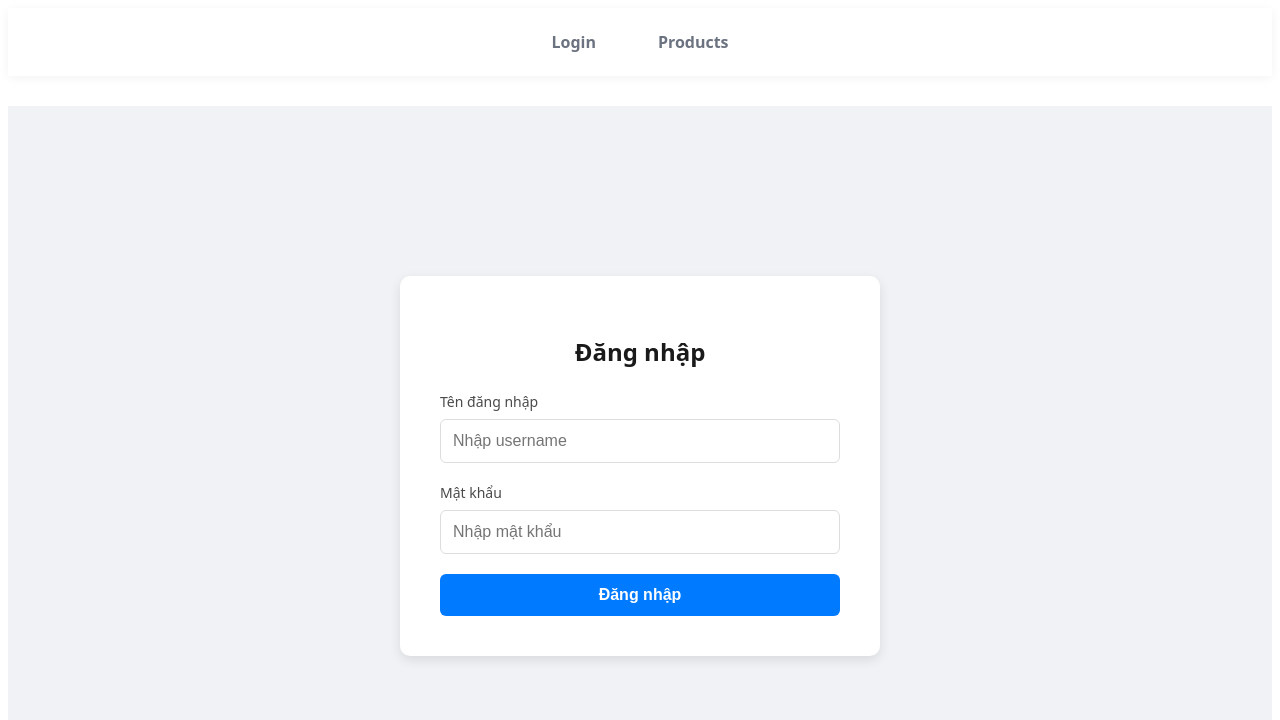
Test: Login E2E Tests (5.1.2) › TC6: Ngăn chặn ký tự đặc biệt không hợp lệ trong Username (Edge Case)
Type "user!@#" into the field with test id "username-input". click: [640, 442]
box: [440,420,840,464]
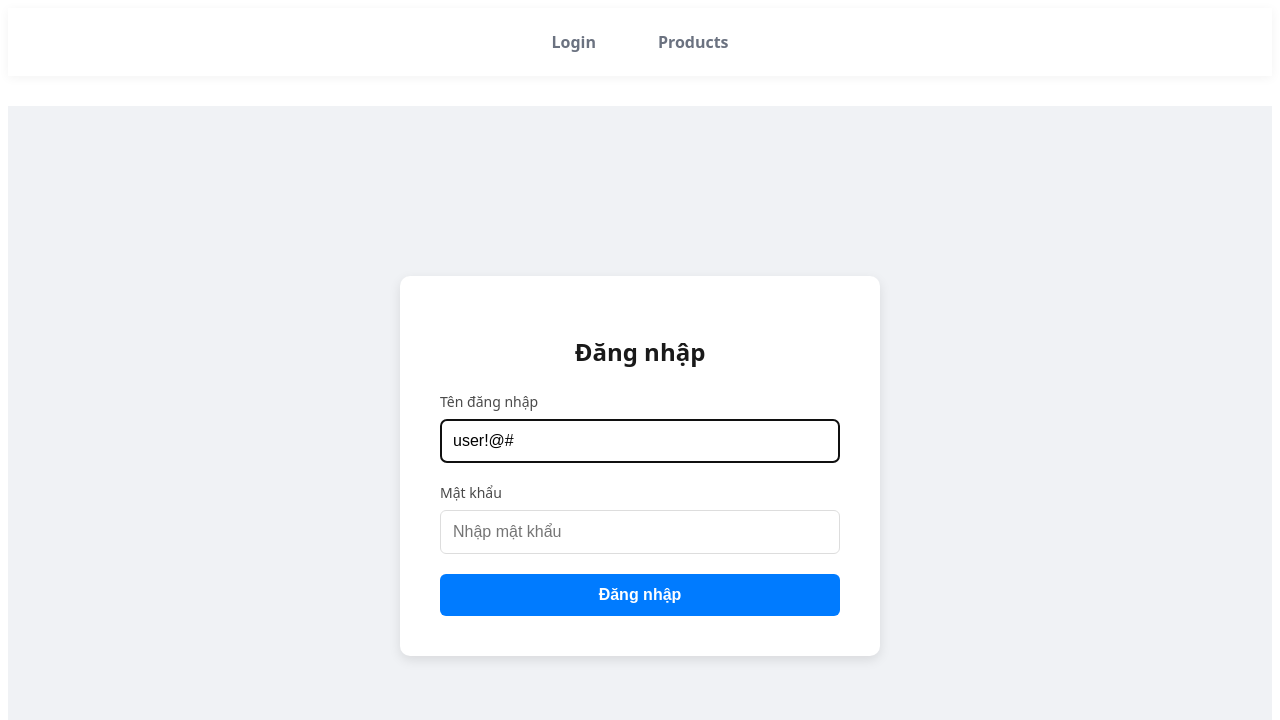
Type "Test123" into the password field with test id "password-input". click: [640, 533]
box: [440,511,840,555]
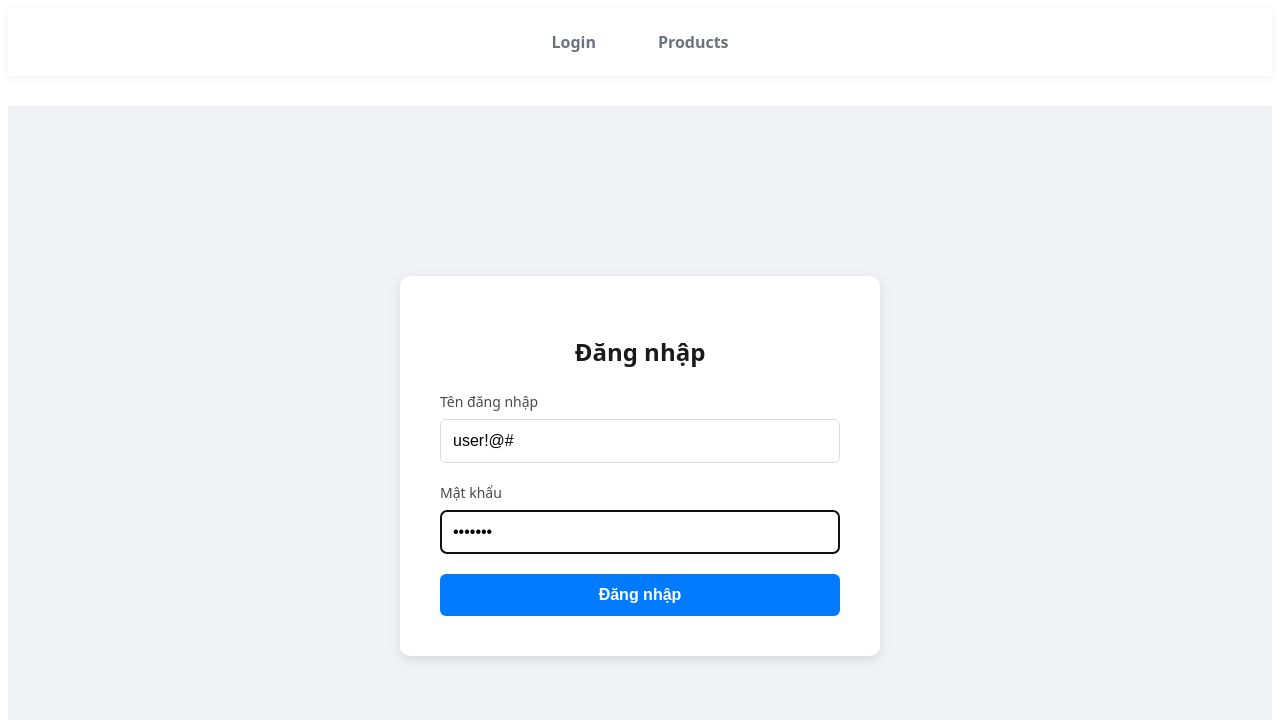
Click the button with test id "login-button". click: [640, 596]
box: [440,575,840,617]
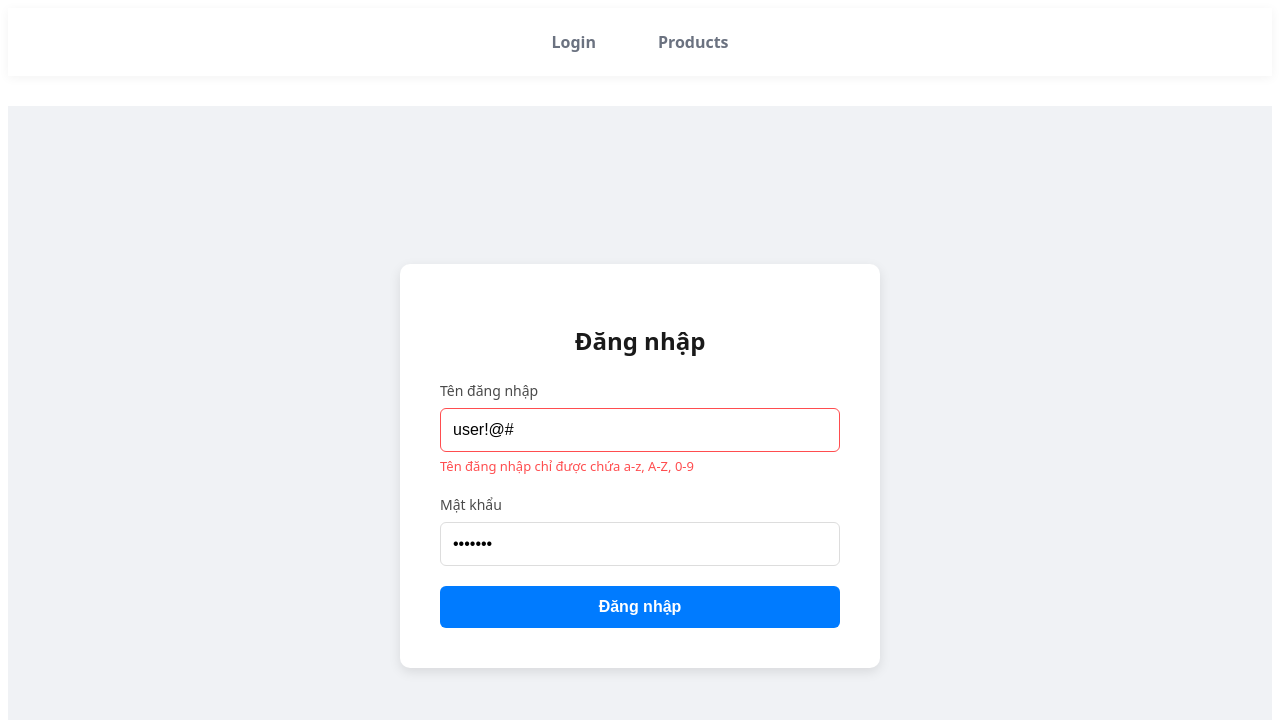
Now the text with test id "username-error" reads "Tên đăng nhập chỉ được chứa a-z, A-Z, 0-9", box [440,457,694,475]
